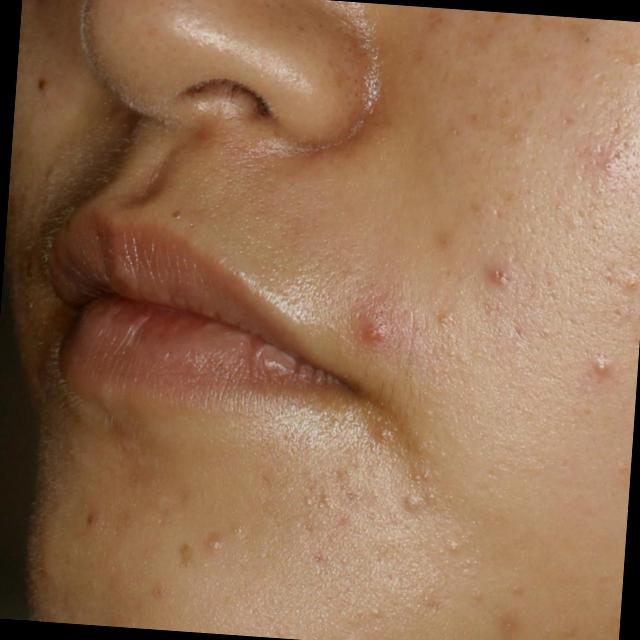blackhead: (170, 208, 184, 222), (188, 221, 194, 229), (584, 36, 590, 42)
